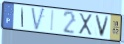2: (62, 10, 78, 36)
I: (49, 10, 55, 33), (21, 7, 25, 29)
V: (94, 14, 111, 39), (30, 7, 46, 32)
X: (78, 13, 94, 37)
